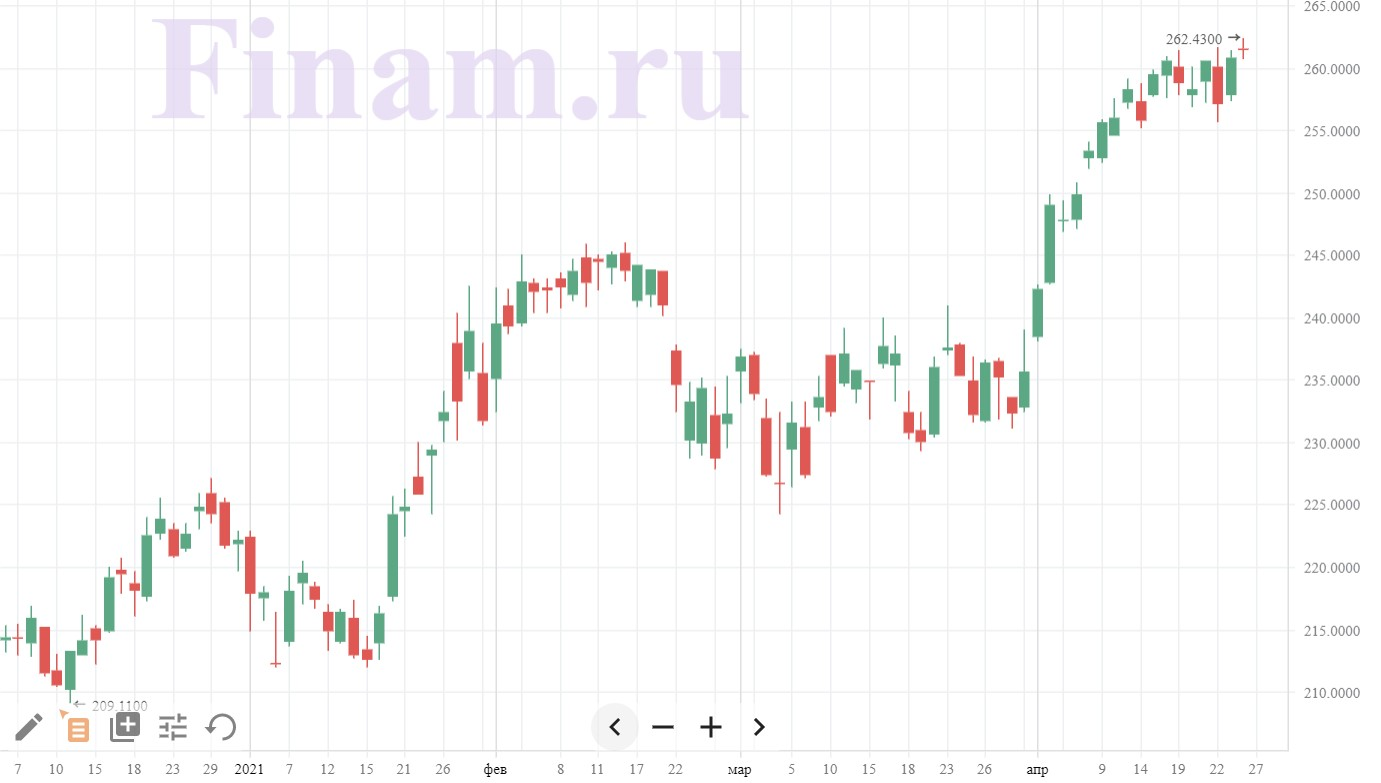3whitesoldiers: (1019, 185, 1058, 421)
bullishEngulfing: (965, 359, 994, 433), (50, 648, 76, 700), (553, 262, 580, 310)
eveningStar: (102, 549, 140, 642)
morningDojiStar: (758, 397, 799, 519)
